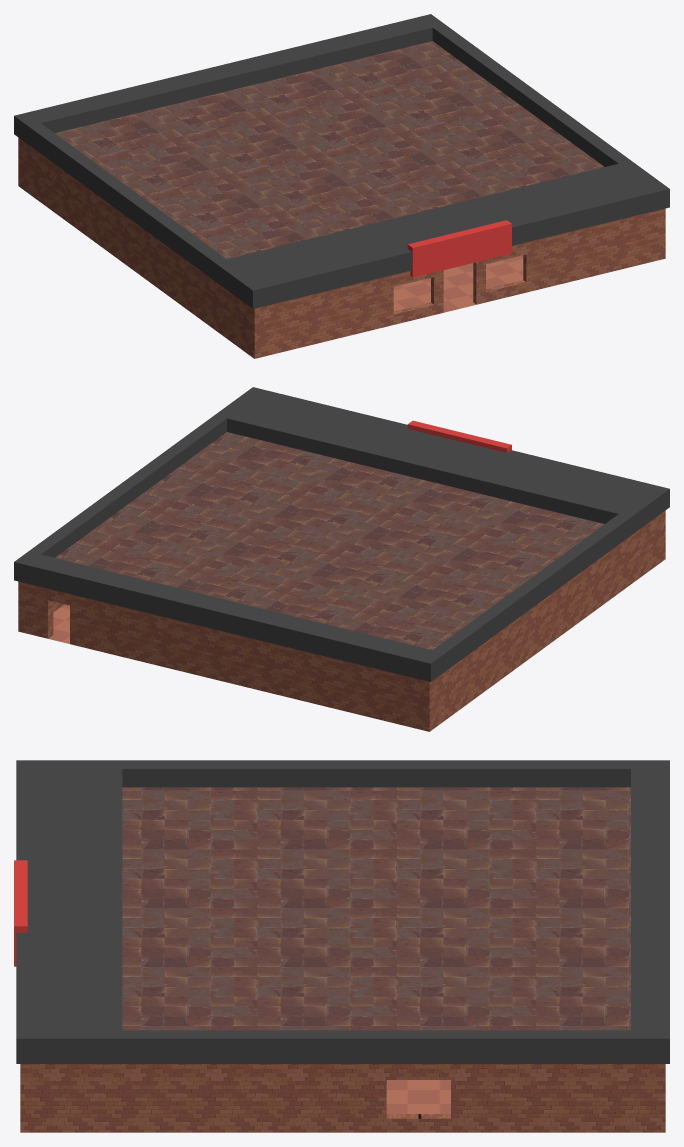
The model's file is pizzeria.glb.
The picture shows the model from 3 angles, top to bottom: view 1: azimuth 30°, elevation 25°; view 2: azimuth 150°, elevation 25°; view 3: azimuth 270°, elevation 25°; orthographic projection. The views are drawn at different scales.
Parts seen in each view (by area): view 1: Ceiling, RoofBoarder, Walls, Billboard, Floor; view 2: Ceiling, RoofBoarder, Walls, Billboard, Floor; view 3: Ceiling, RoofBoarder, Walls, Floor, Billboard.
Boxes of the visible parts, <box> form: Ceiling: <box>55,41,604,259</box>; RoofBoarder: <box>14,14,669,308</box>; Walls: <box>18,137,665,358</box>; Billboard: <box>407,220,511,277</box>; Floor: <box>393,255,523,312</box>; Ceiling: <box>55,432,604,649</box>; RoofBoarder: <box>14,387,669,681</box>; Walls: <box>18,510,665,731</box>; Billboard: <box>407,420,511,452</box>; Floor: <box>48,604,69,643</box>; Ceiling: <box>122,787,630,1030</box>; RoofBoarder: <box>16,760,669,1063</box>; Walls: <box>20,1064,665,1132</box>; Floor: <box>386,1080,450,1113</box>; Billboard: <box>14,860,27,966</box>.
Size of the model in its own units: 30.81 by 5.27 by 30.7.
Materials: 7 (4 with a texture image).
